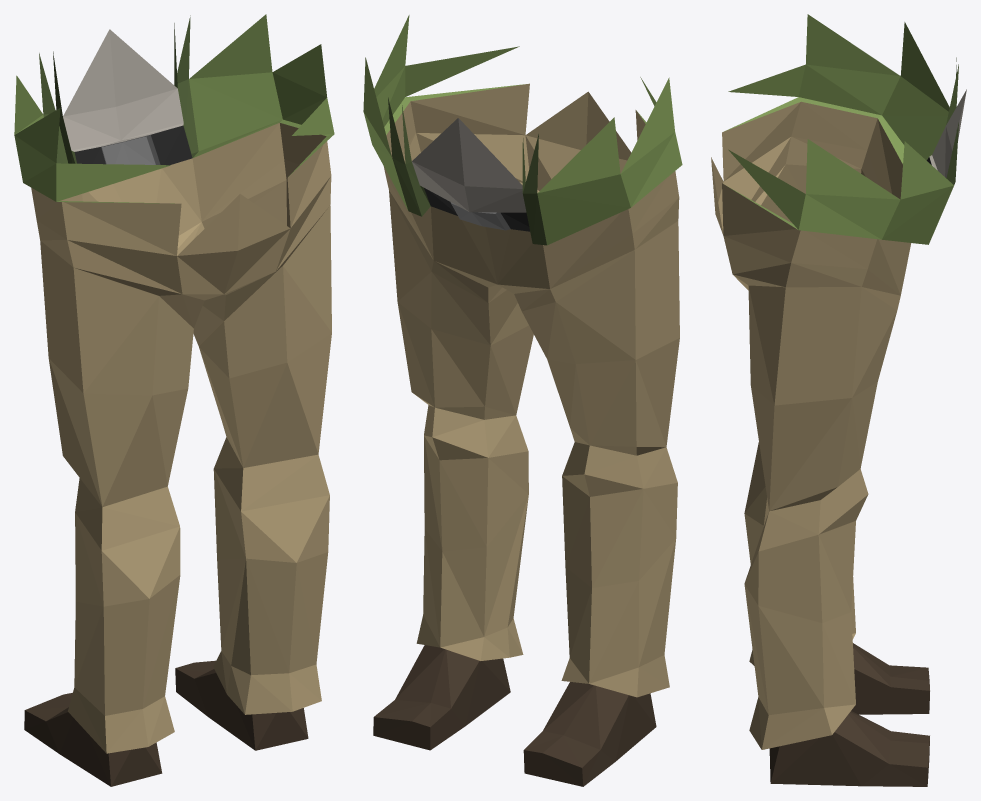
The model's file is Legs.obj.
3 renders of one model, left to right at view 1: azimuth 30°, elevation 25°; view 2: azimuth 150°, elevation 25°; view 3: azimuth 270°, elevation 25°, orthographic.
Bounding box in the file's own units: 0.4435 × 1.03 × 0.3602.
1 material, 1 textured.
